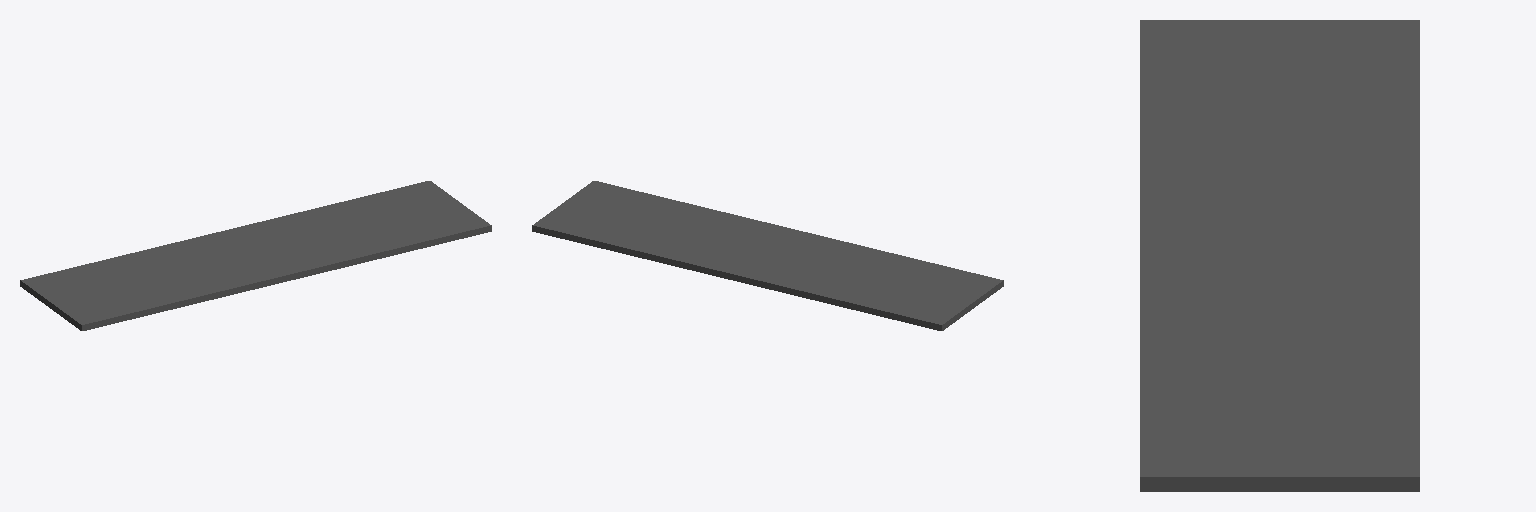
The robot description file, URDF, robot "conference_table":
<robot name="conference_table">
  <link name="base_link">
    <!-- Tabletop -->
    <collision>
      <origin xyz="0 0 0.714"/>
      <geometry>
        <box size="1.8515 0.741 0.042"/>
      </geometry>
    </collision>
    <visual>
      <origin xyz="0 0 0.714"/>
      <geometry>
        <box size="2.8515 0.741 0.042"/>
      </geometry>
      <material name="gray">
        <color rgba="0.4  0.4  0.4 0.9"/>
      </material>
    </visual>
  </link>
</robot>

--- What the picture shows (computed from the rendered views, not written in the file) ---
Views: 3 orthographic renders of the robot side by side, from view 1: azimuth 30°, elevation 25°; view 2: azimuth 150°, elevation 25°; view 3: azimuth 270°, elevation 25°.
Robot: conference_table — 1 links, 0 joints (none); root link base_link; default pose: every joint at zero.
Links seen in each view (by area): view 1: base_link; view 2: base_link; view 3: base_link.
Link boxes in pixels (left/top/right/bottom): base_link: left=20, top=181, right=491, bottom=330; base_link: left=532, top=181, right=1003, bottom=330; base_link: left=1140, top=20, right=1419, bottom=491.
Bounding box of the posed robot: 2.85 × 0.741 × 0.042 m (x, y, z).
Geometry: primitives only (box / cylinder / sphere), no mesh files.